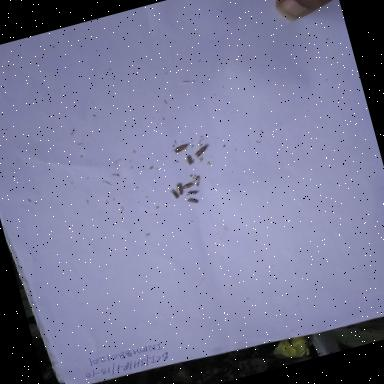pbw: (167, 139, 193, 156), (192, 142, 212, 160), (179, 178, 203, 190), (182, 187, 201, 198), (170, 186, 182, 202), (186, 196, 200, 208), (174, 182, 186, 196), (184, 154, 195, 167)
